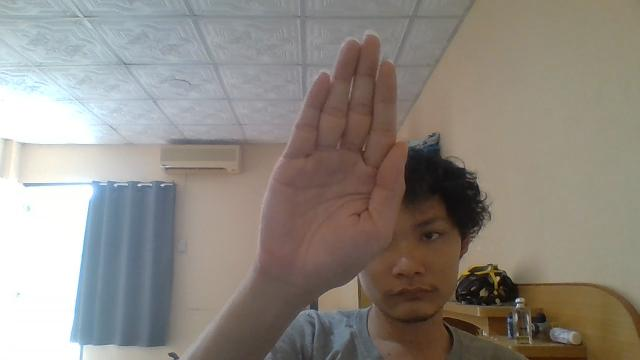Stop: (256, 29, 408, 298)
